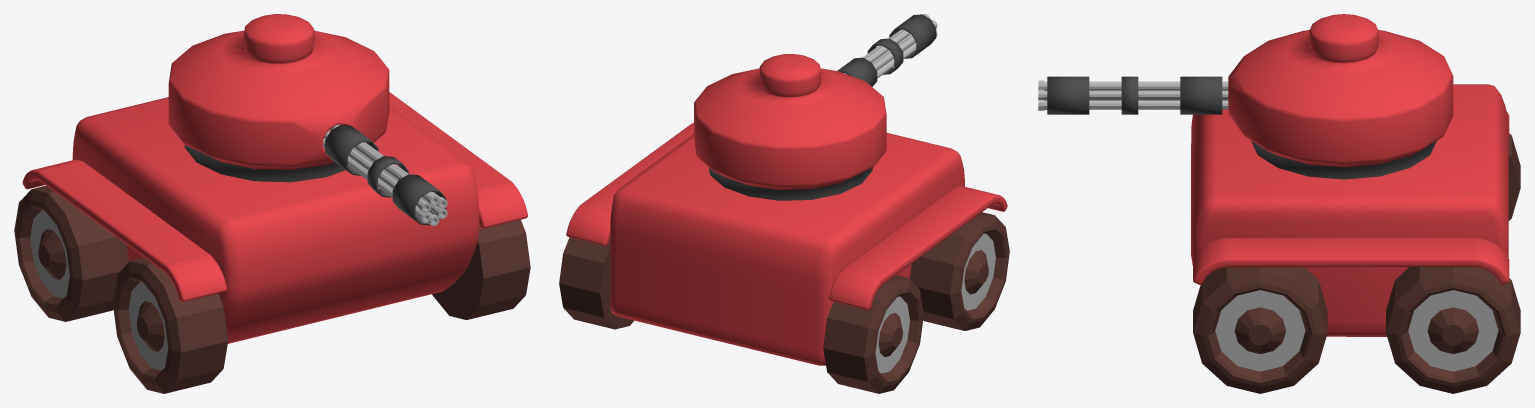
File: tank.fbx
3 renders of one model, left to right at view 1: azimuth 30°, elevation 25°; view 2: azimuth 150°, elevation 25°; view 3: azimuth 270°, elevation 25°, orthographic. The views are drawn at different scales.
Visible parts, largest first — view 1: Cube, Circle, Cylinder, Cube.001, Circle.001; view 2: Cube, Circle, Cylinder, Cube.001, Circle.001; view 3: Cube, Circle, Cylinder, Cube.001, Circle.001.
Boxes of the visible parts, x1=… form: Cube: x1=72, y1=97, x2=479, y2=343; Circle: x1=168, y1=14, x2=446, y2=225; Cylinder: x1=14, y1=185, x2=530, y2=393; Cube.001: x1=22, y1=92, x2=527, y2=302; Circle.001: x1=323, y1=124, x2=447, y2=226; Cube: x1=610, y1=133, x2=964, y2=365; Circle: x1=694, y1=14, x2=936, y2=200; Cylinder: x1=559, y1=212, x2=1009, y2=393; Cube.001: x1=566, y1=123, x2=1007, y2=309; Circle.001: x1=843, y1=14, x2=937, y2=78; Cube: x1=1191, y1=84, x2=1508, y2=336; Circle: x1=1047, y1=14, x2=1453, y2=179; Cylinder: x1=1193, y1=133, x2=1520, y2=393; Cube.001: x1=1193, y1=112, x2=1509, y2=284; Circle.001: x1=1038, y1=80, x2=1228, y2=110.
Size of the model in its own units: 316 by 246 by 374.
